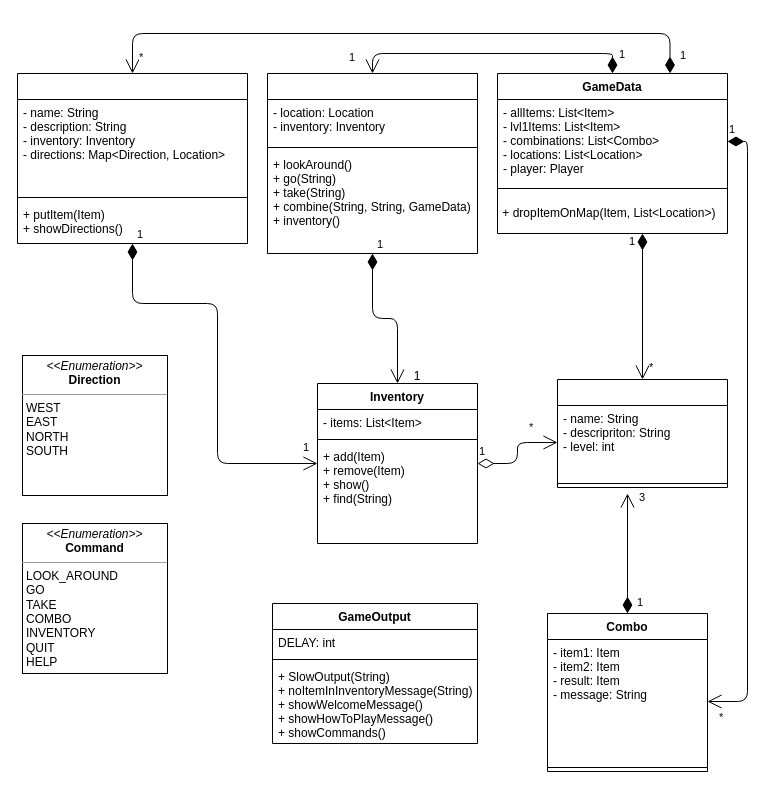
Image size: 782x789. Some labels were removed from this diagram. The box of each missing label's shape, as (x1, y1, x2, y2) in pixels:
Item: (556, 378, 728, 488)
Location: (16, 72, 248, 244)
Player: (266, 72, 478, 254)
